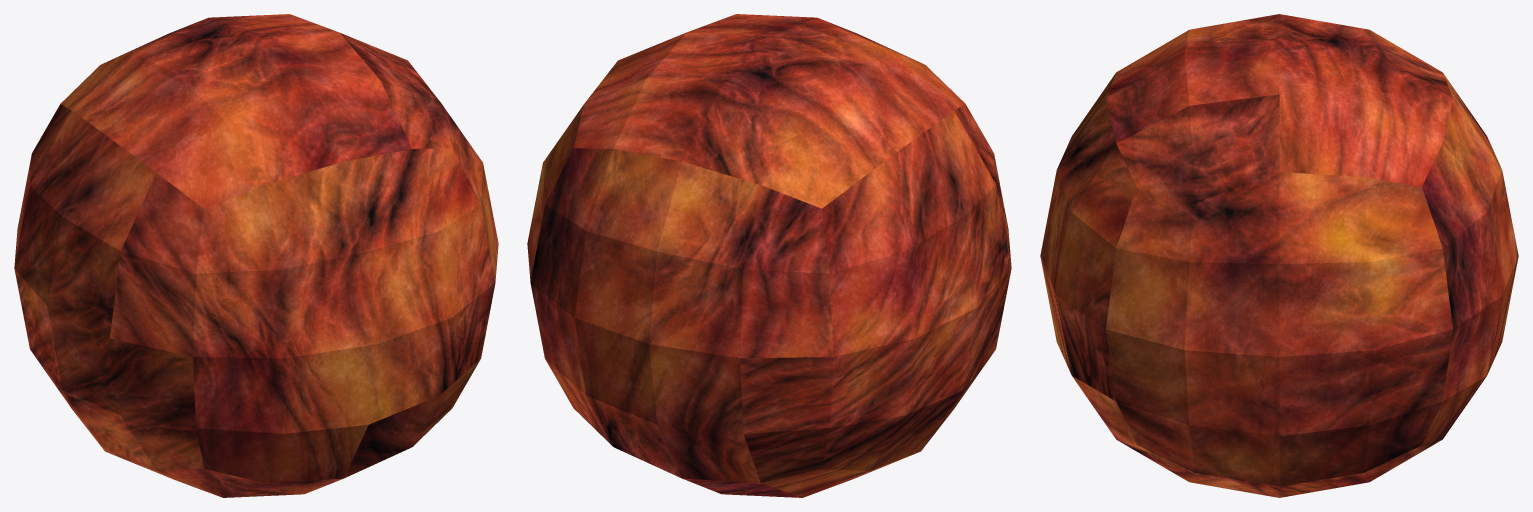
Rendered from sun.obj.
The picture shows the model from 3 angles, left to right: view 1: azimuth 30°, elevation 25°; view 2: azimuth 150°, elevation 25°; view 3: azimuth 270°, elevation 25°; orthographic projection.
Parts seen in each view (by area): view 1: Cube; view 2: Cube; view 3: Cube.
Part boxes in pixels (x1,y1,x2,y2): Cube: (14,14,498,497); Cube: (527,14,1011,497); Cube: (1040,14,1518,497).
Size of the model in its own units: 7.27 by 7.27 by 7.27.
